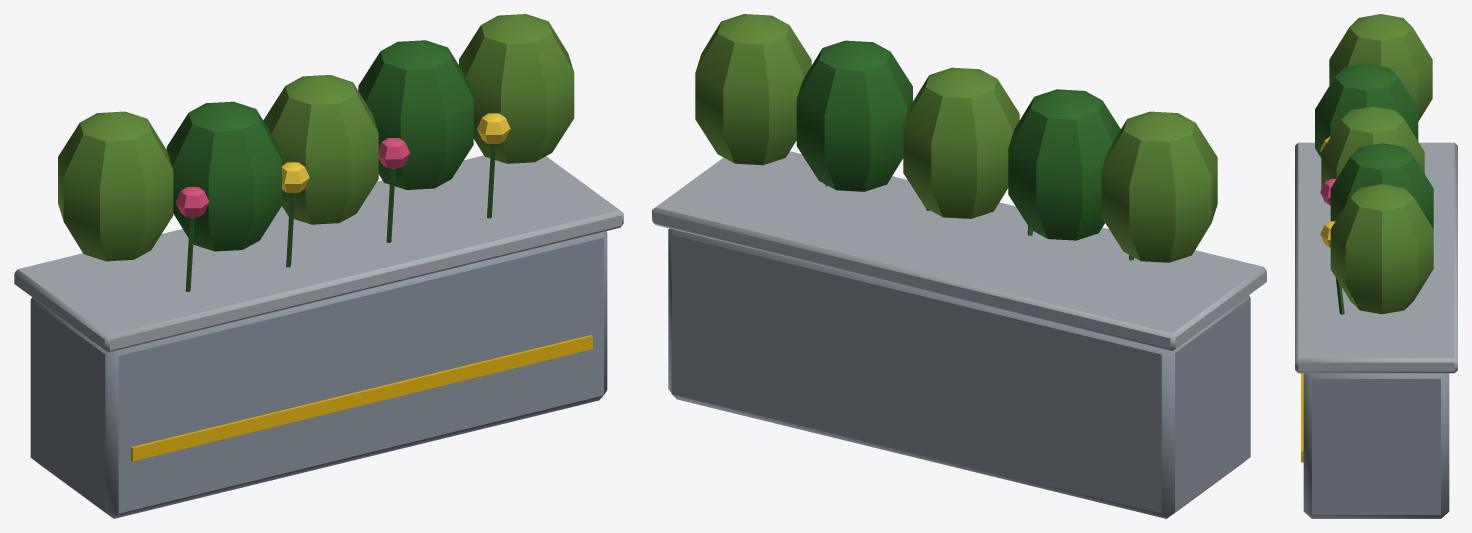
The model's file is plant_planter_box.glb.
3 renders of one model, left to right at view 1: azimuth 30°, elevation 25°; view 2: azimuth 150°, elevation 25°; view 3: azimuth 270°, elevation 25°, orthographic. The views are drawn at different scales.
Parts seen in each view (by area): view 1: plant_planter_box; view 2: plant_planter_box; view 3: plant_planter_box.
Boxes of the visible parts, x1,y1,x2,y2 form: plant_planter_box: [14, 14, 623, 518]; plant_planter_box: [652, 14, 1266, 518]; plant_planter_box: [1295, 14, 1457, 518].
Size of the model in its own units: 1.24 by 0.8382 by 0.39.
